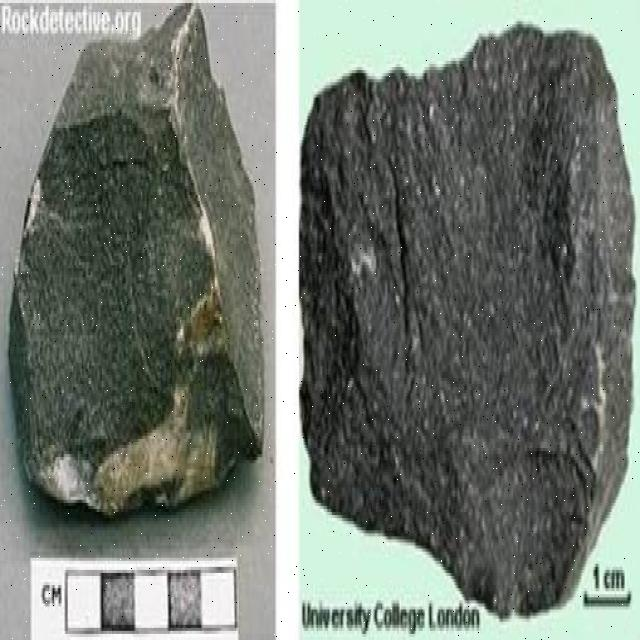Igneous: (301, 21, 628, 534), (13, 43, 260, 530)
